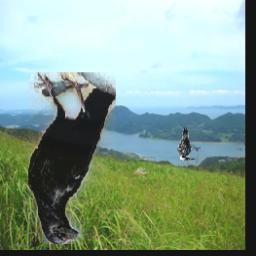Crow: (28, 73, 116, 245)
Woodpecker: (177, 126, 202, 161)
